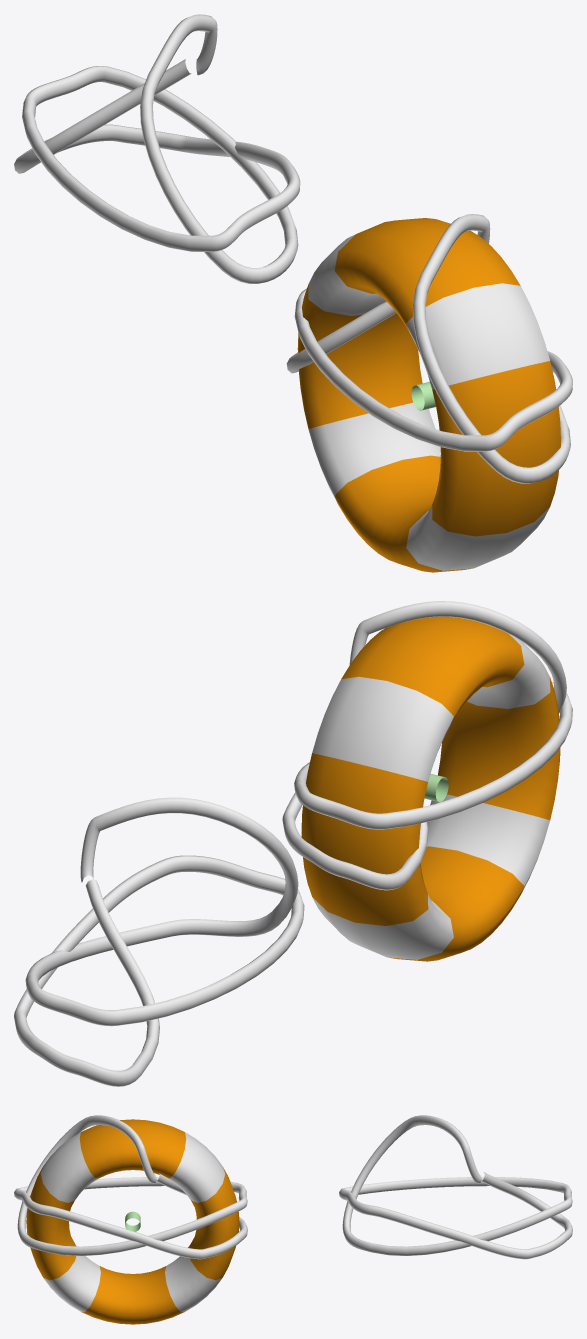
Rendered from lifering2Spline.glb.
3 renders of one model, top to bottom at view 1: azimuth 30°, elevation 25°; view 2: azimuth 150°, elevation 25°; view 3: azimuth 270°, elevation 25°, orthographic. The views are drawn at different scales.
Parts seen in each view (by area): view 1: Torus, Torus Knot 2 x 3.002, Torus Knot 2 x 3; view 2: Torus, Torus Knot 2 x 3.002, Torus Knot 2 x 3; view 3: Torus, Torus Knot 2 x 3.002, Torus Knot 2 x 3.
Boxes of the visible parts, left/top/right/bottom form: Torus: left=297, top=218, right=560, bottom=572; Torus Knot 2 x 3.002: left=14, top=14, right=300, bottom=283; Torus Knot 2 x 3: left=286, top=214, right=572, bottom=483; Torus: left=301, top=616, right=560, bottom=961; Torus Knot 2 x 3.002: left=14, top=797, right=304, bottom=1086; Torus Knot 2 x 3: left=282, top=601, right=572, bottom=890; Torus: left=26, top=1119, right=239, bottom=1324; Torus Knot 2 x 3.002: left=339, top=1115, right=572, bottom=1259; Torus Knot 2 x 3: left=14, top=1115, right=247, bottom=1259.
Bounding box in the file's own units: 0.3969 × 0.6854 × 1.72.
